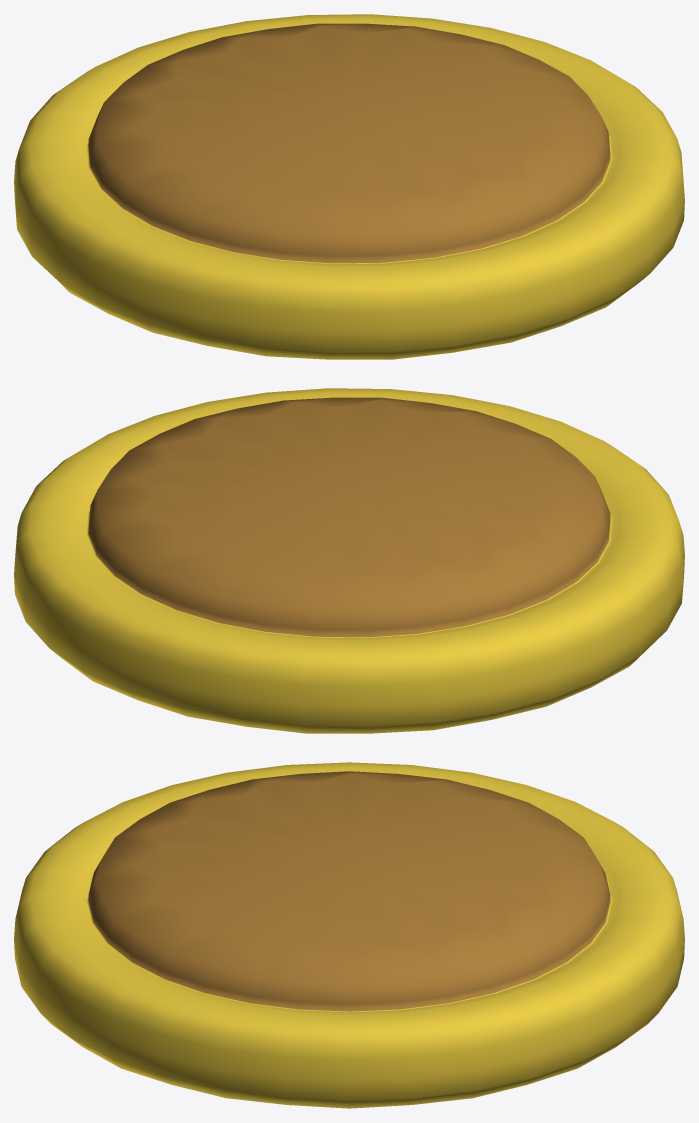
Rendered from Coin.fbx.
The picture shows the model from 3 angles, top to bottom: view 1: azimuth 30°, elevation 25°; view 2: azimuth 150°, elevation 25°; view 3: azimuth 270°, elevation 25°; orthographic projection.
Visible parts, largest first — view 1: Circle; view 2: Circle; view 3: Circle.
Boxes of the visible parts, <box> form: Circle: <box>14,14,684,359</box>; Circle: <box>14,388,684,733</box>; Circle: <box>14,762,684,1108</box>.
Size of the model in its own units: 642 by 134 by 642.
